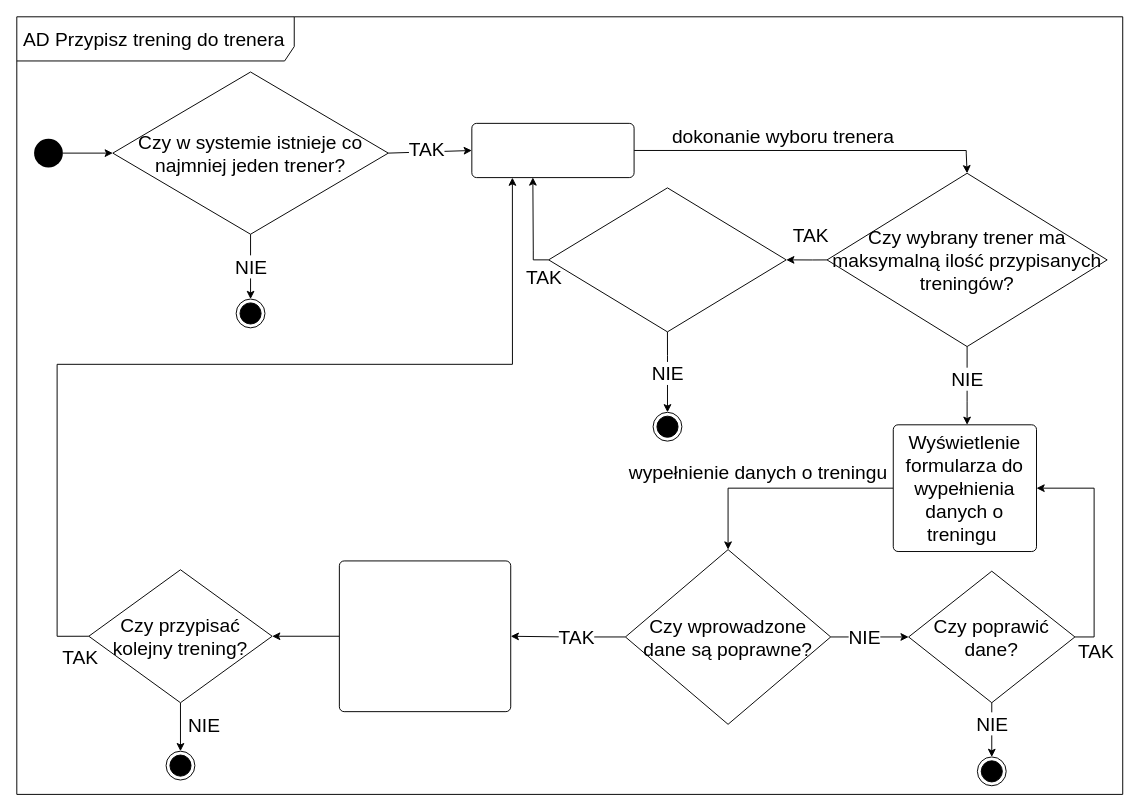
Some shapes in this 1140 by 811 pixel diagram are drawn without their labels. Here are the shapes that lost their labels. From the top down, the centre of each, then its label:
At (552,150): "Wyświetlenie listy trenerów".
At (667,259): "Czy zmienić wybór trenera?".
At (424,636): "Wyświetlenie potwierdzenia przypisania treningu i pomyślnym zapisaniu danych".
